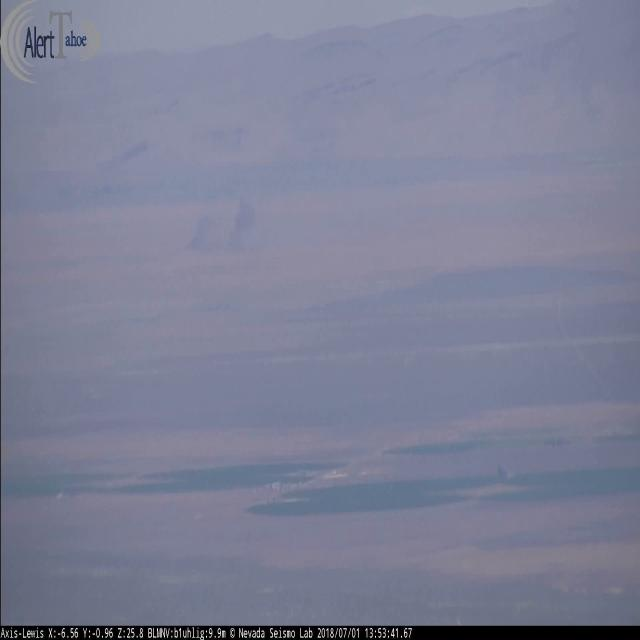smoke: (184, 193, 256, 250)
